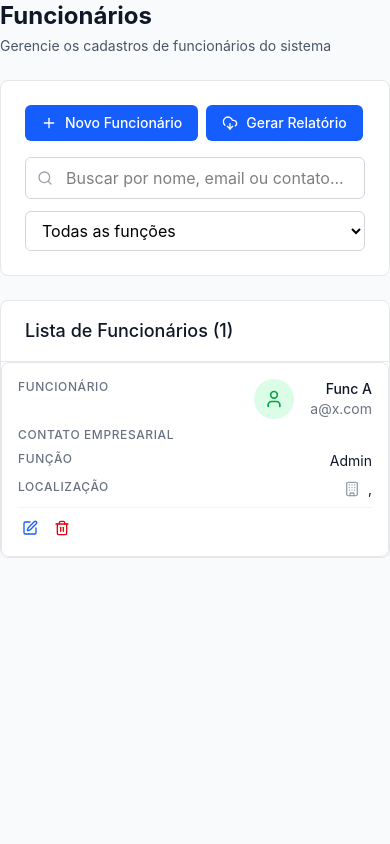
Test: Employees page › opens new modal
The image size is (390, 844).
Click the button "Novo Funcionário" at point(112, 123), box [25,105,198,141]
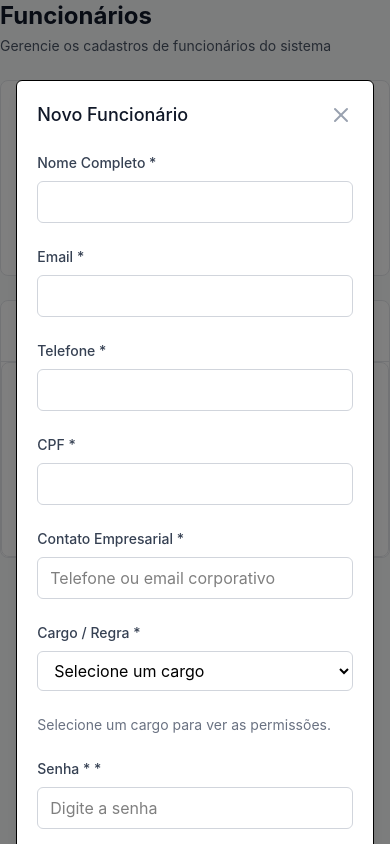
Expected: the heading "Novo Funcionário" is shown, [37,101,188,129]
